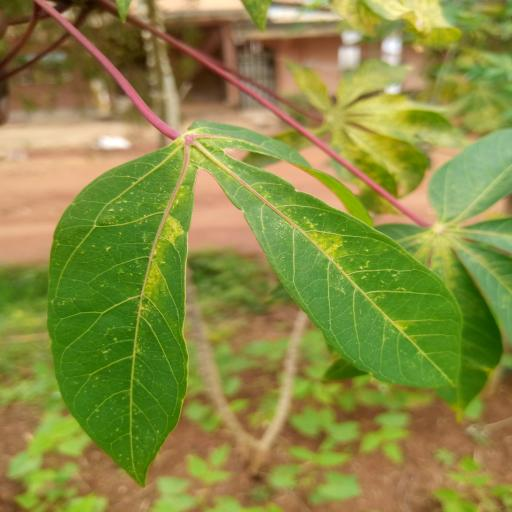Cassava_Mosaic: (39, 121, 493, 487)
